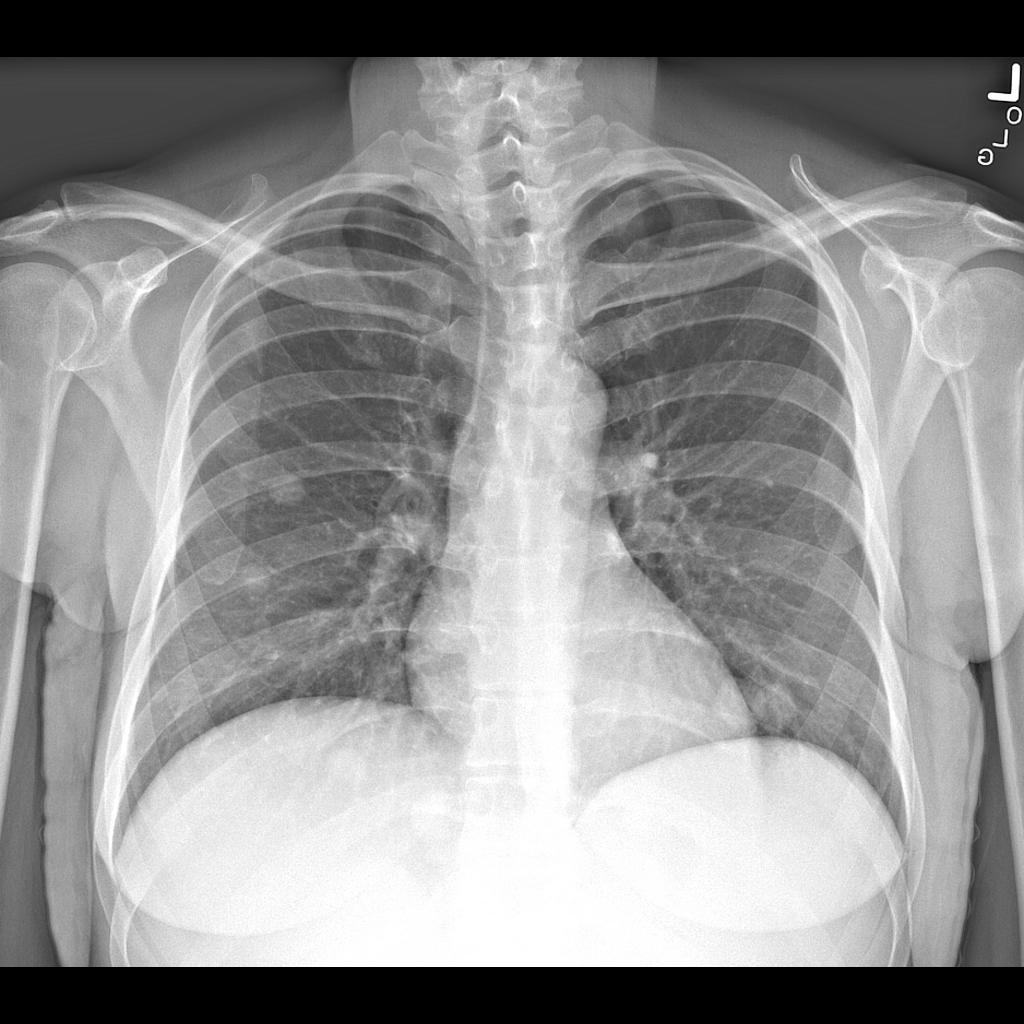Nodule: (717, 668, 803, 745), (266, 466, 319, 512), (235, 563, 289, 606)
